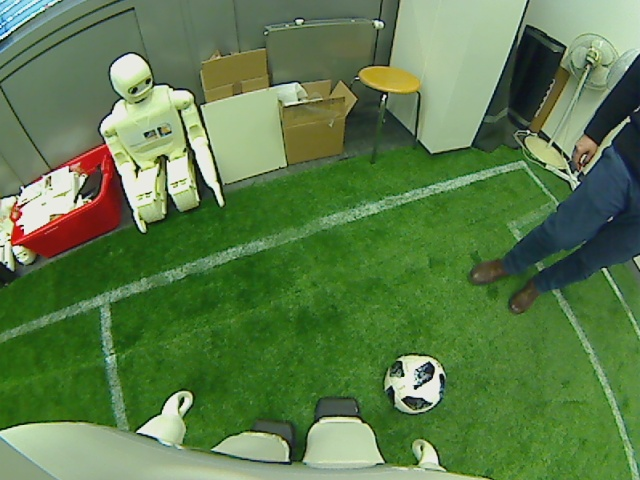ball: (382, 352, 445, 415)
